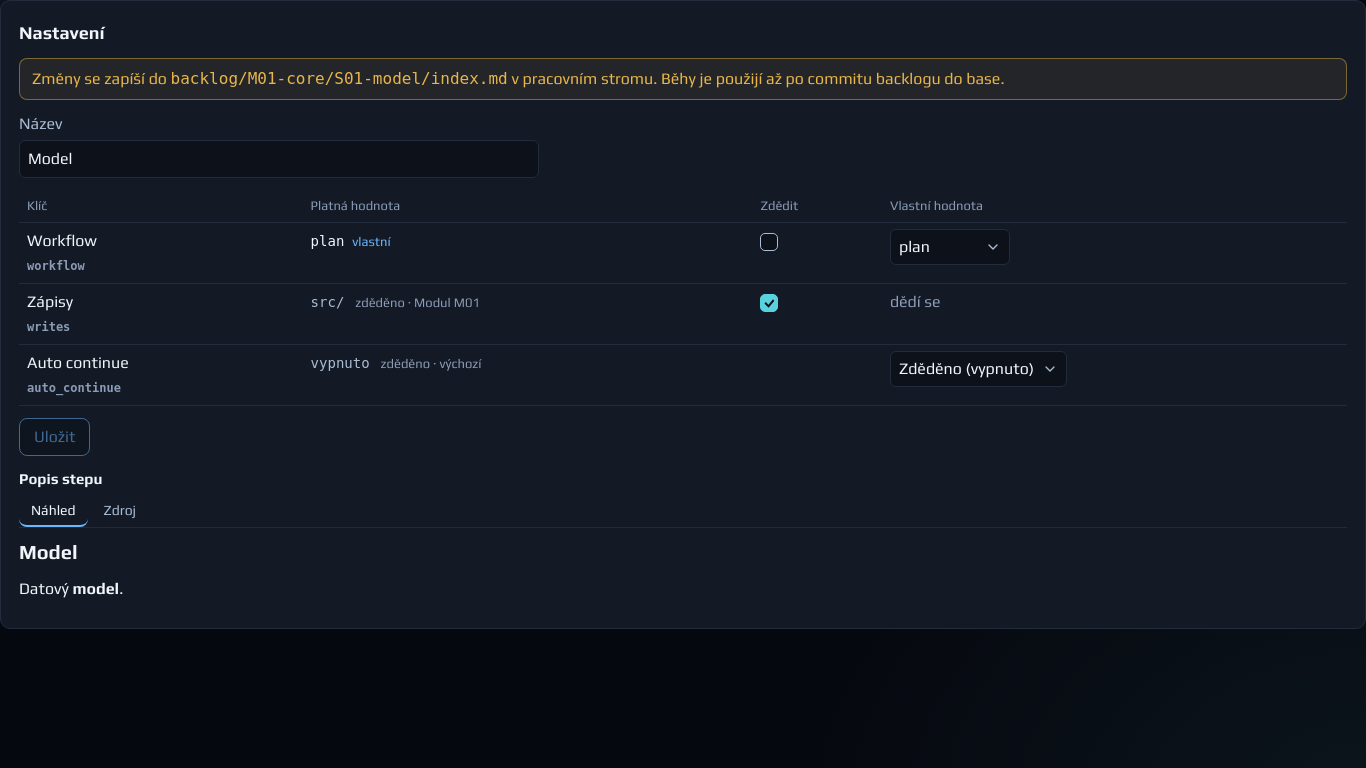
Test case: ContainerSettings › shows the description as markdown with preview and source
expect the element with test id "md-preview" does not show "skryté": met
Click the tab with test id "md-tab-source".
click(120, 512)  # box 92,496 -> 148,527
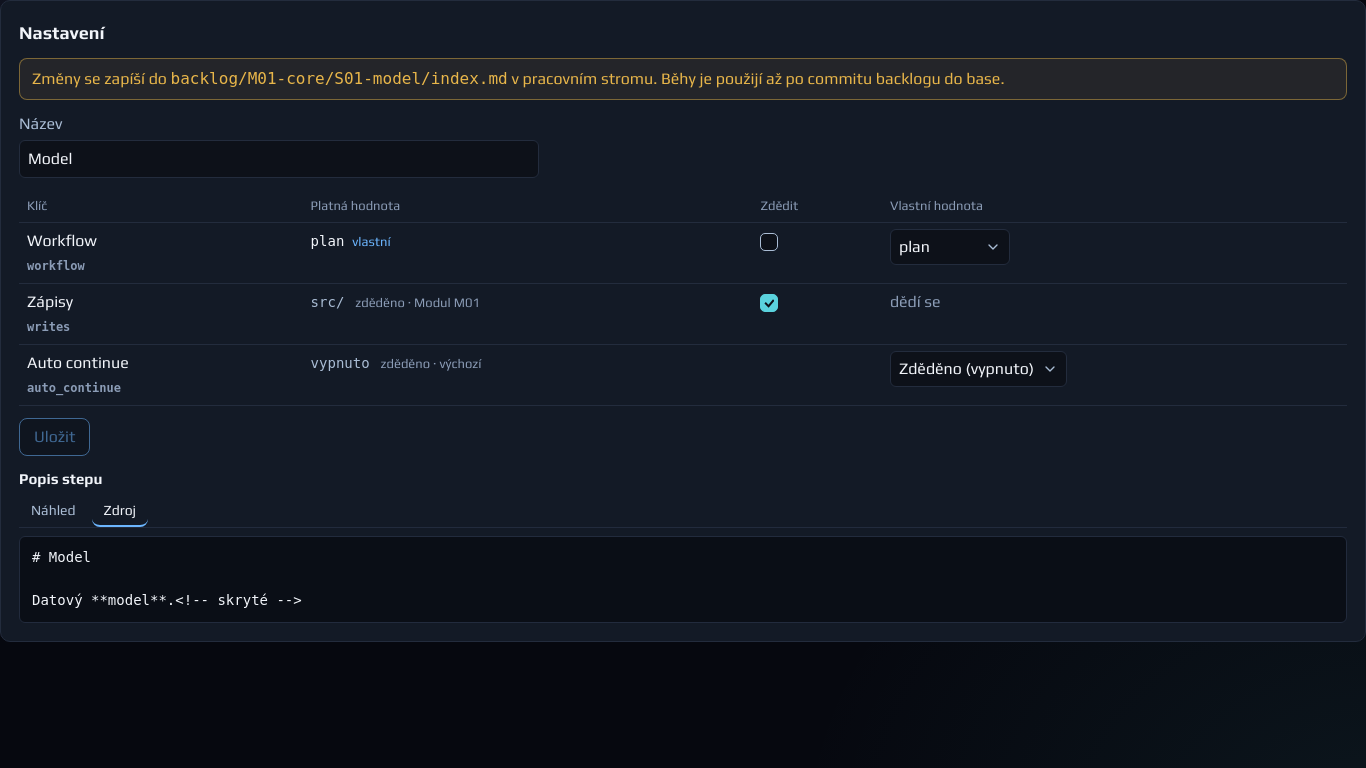
expect the text with test id "md-source" shows "<!-- skryté -->": met, box 32,549 -> 302,608
